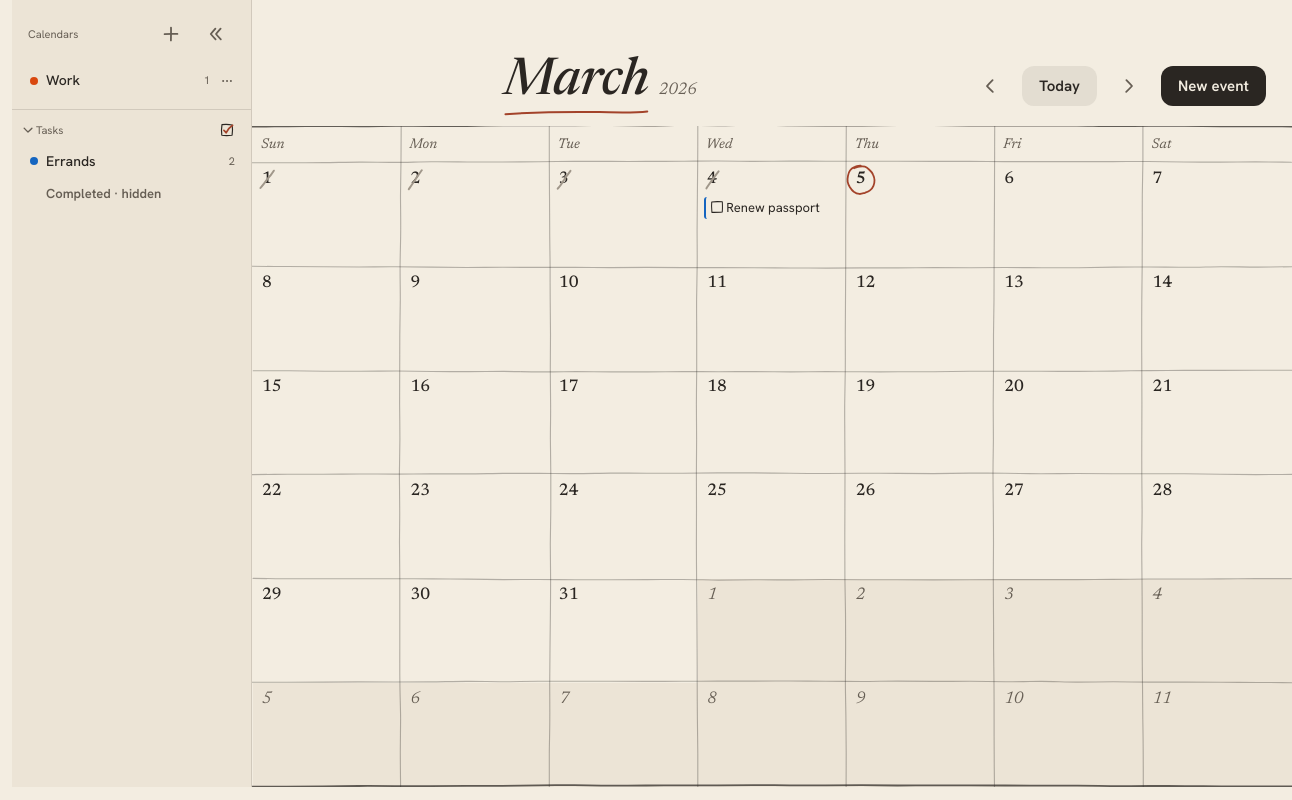
it: <CalendarView> tasks › hides completed tasks by default and shows them on request
Click the button "Completed · hidden": [132, 195] box [12,180,251,211]
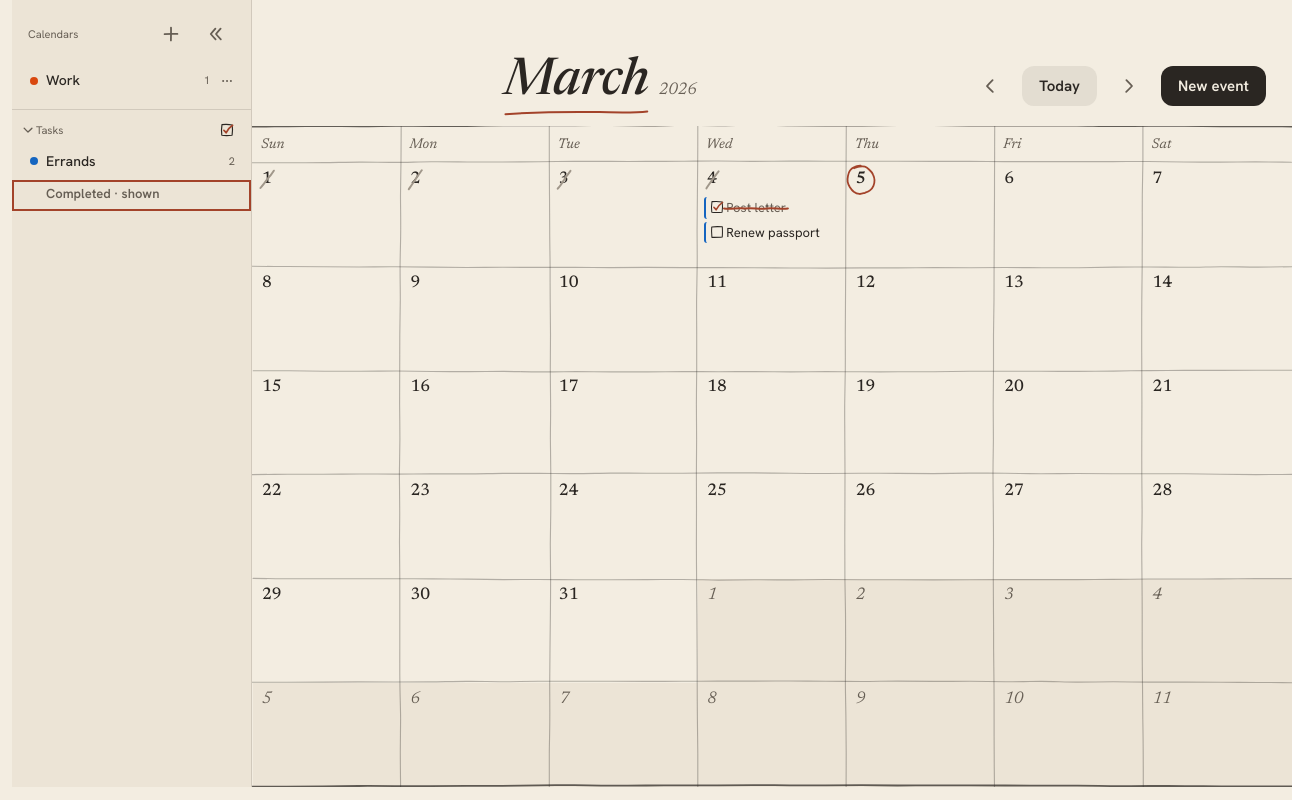
Check: the button with class "cal-task" showing "Post letter" is shown, box [704,197,840,218]
